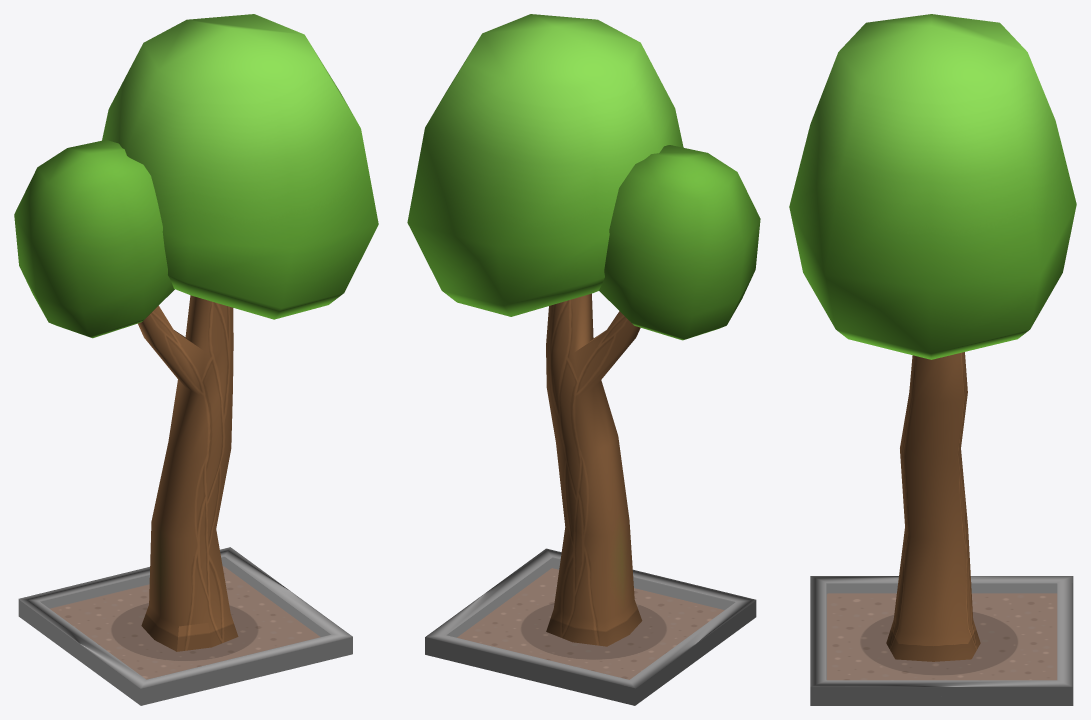
Rendered from city_tree.fbx.
The picture shows the model from 3 angles, left to right: view 1: azimuth 30°, elevation 25°; view 2: azimuth 150°, elevation 25°; view 3: azimuth 270°, elevation 25°; orthographic projection. The views are drawn at different scales.
Visible parts, largest first — view 1: city:polySurface327; view 2: city:polySurface327; view 3: city:polySurface327.
Part boxes in pixels (box(x1,y1,x2,y2)): city:polySurface327: box(14, 14, 378, 705); city:polySurface327: box(407, 14, 760, 705); city:polySurface327: box(789, 14, 1076, 705).
Size of the model in its own units: 2.65 by 4.79 by 1.93.
